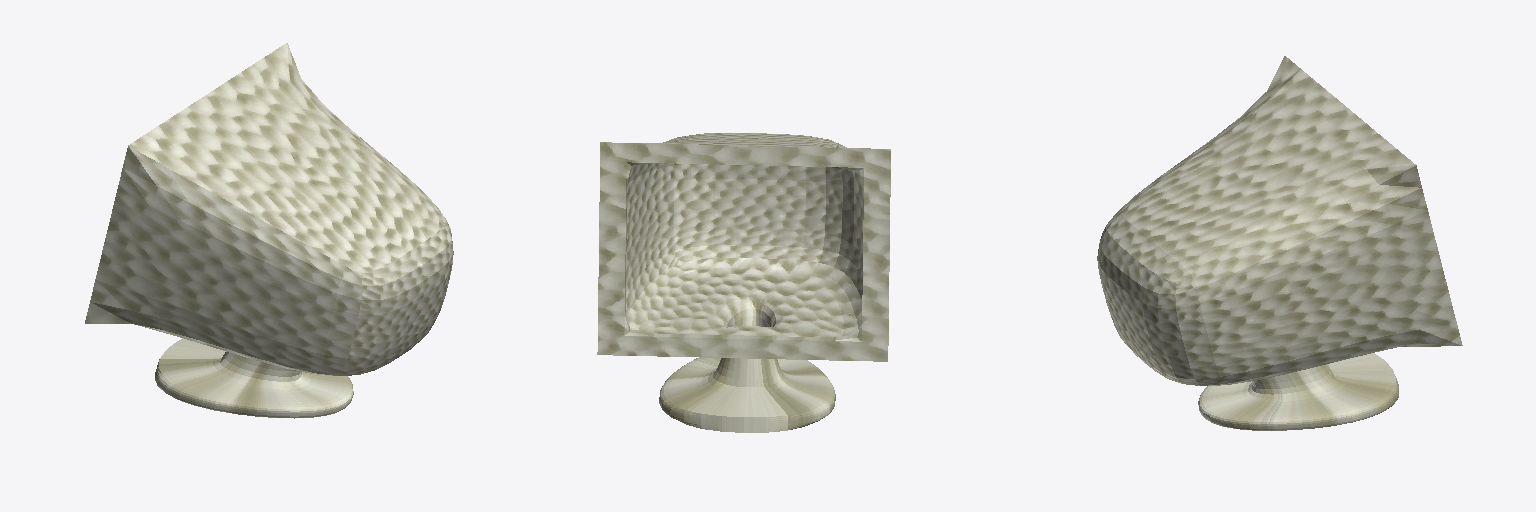
3 views of the same model, side by side, from view 1: azimuth 30°, elevation 25°; view 2: azimuth 150°, elevation 25°; view 3: azimuth 270°, elevation 25° (orthographic).
Visible parts, largest first — view 1: PC; view 2: PC; view 3: PC.
Part boxes in pixels (x1,y1,x2,y2): PC: (85, 43, 453, 418); PC: (597, 133, 890, 432); PC: (1097, 56, 1462, 430).
Bounding box in the file's own units: 136 × 124 × 147.
1 materials, 1 textured.